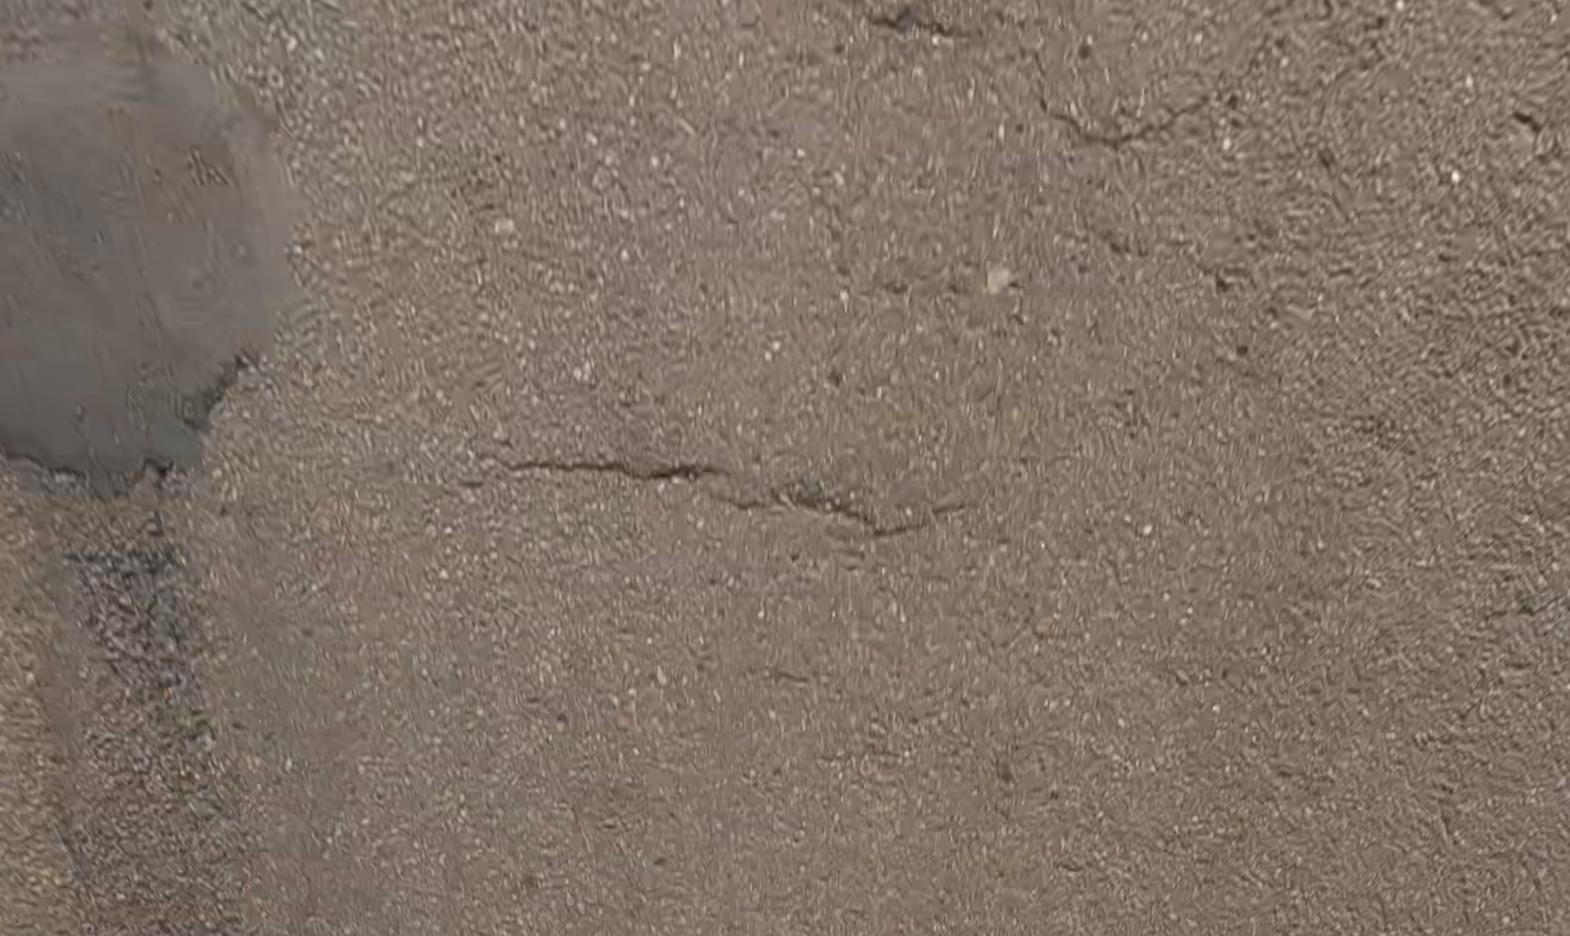pothole_patch_good: (0, 1, 290, 493)
